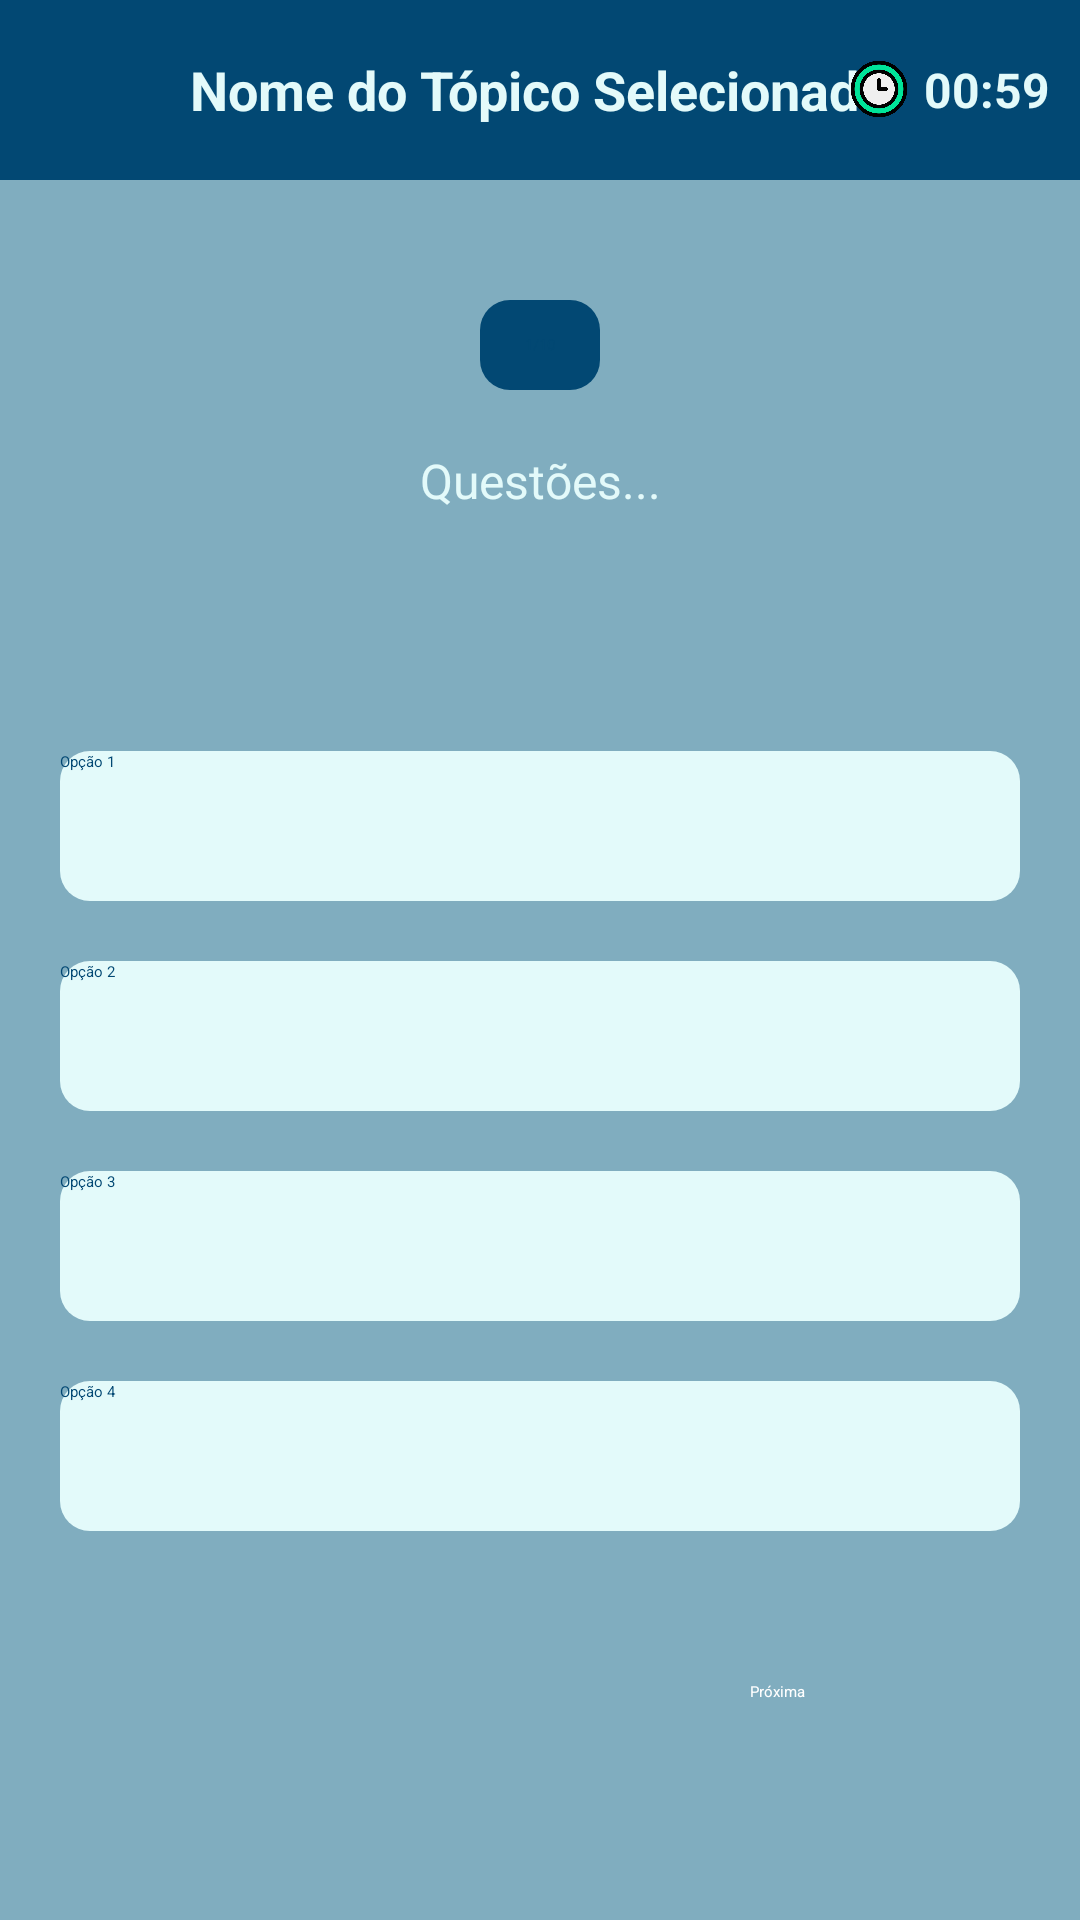

Named icons in this screenshot (1080 × 1920) and their centers, point (x, y):
timer: point (878, 89)
